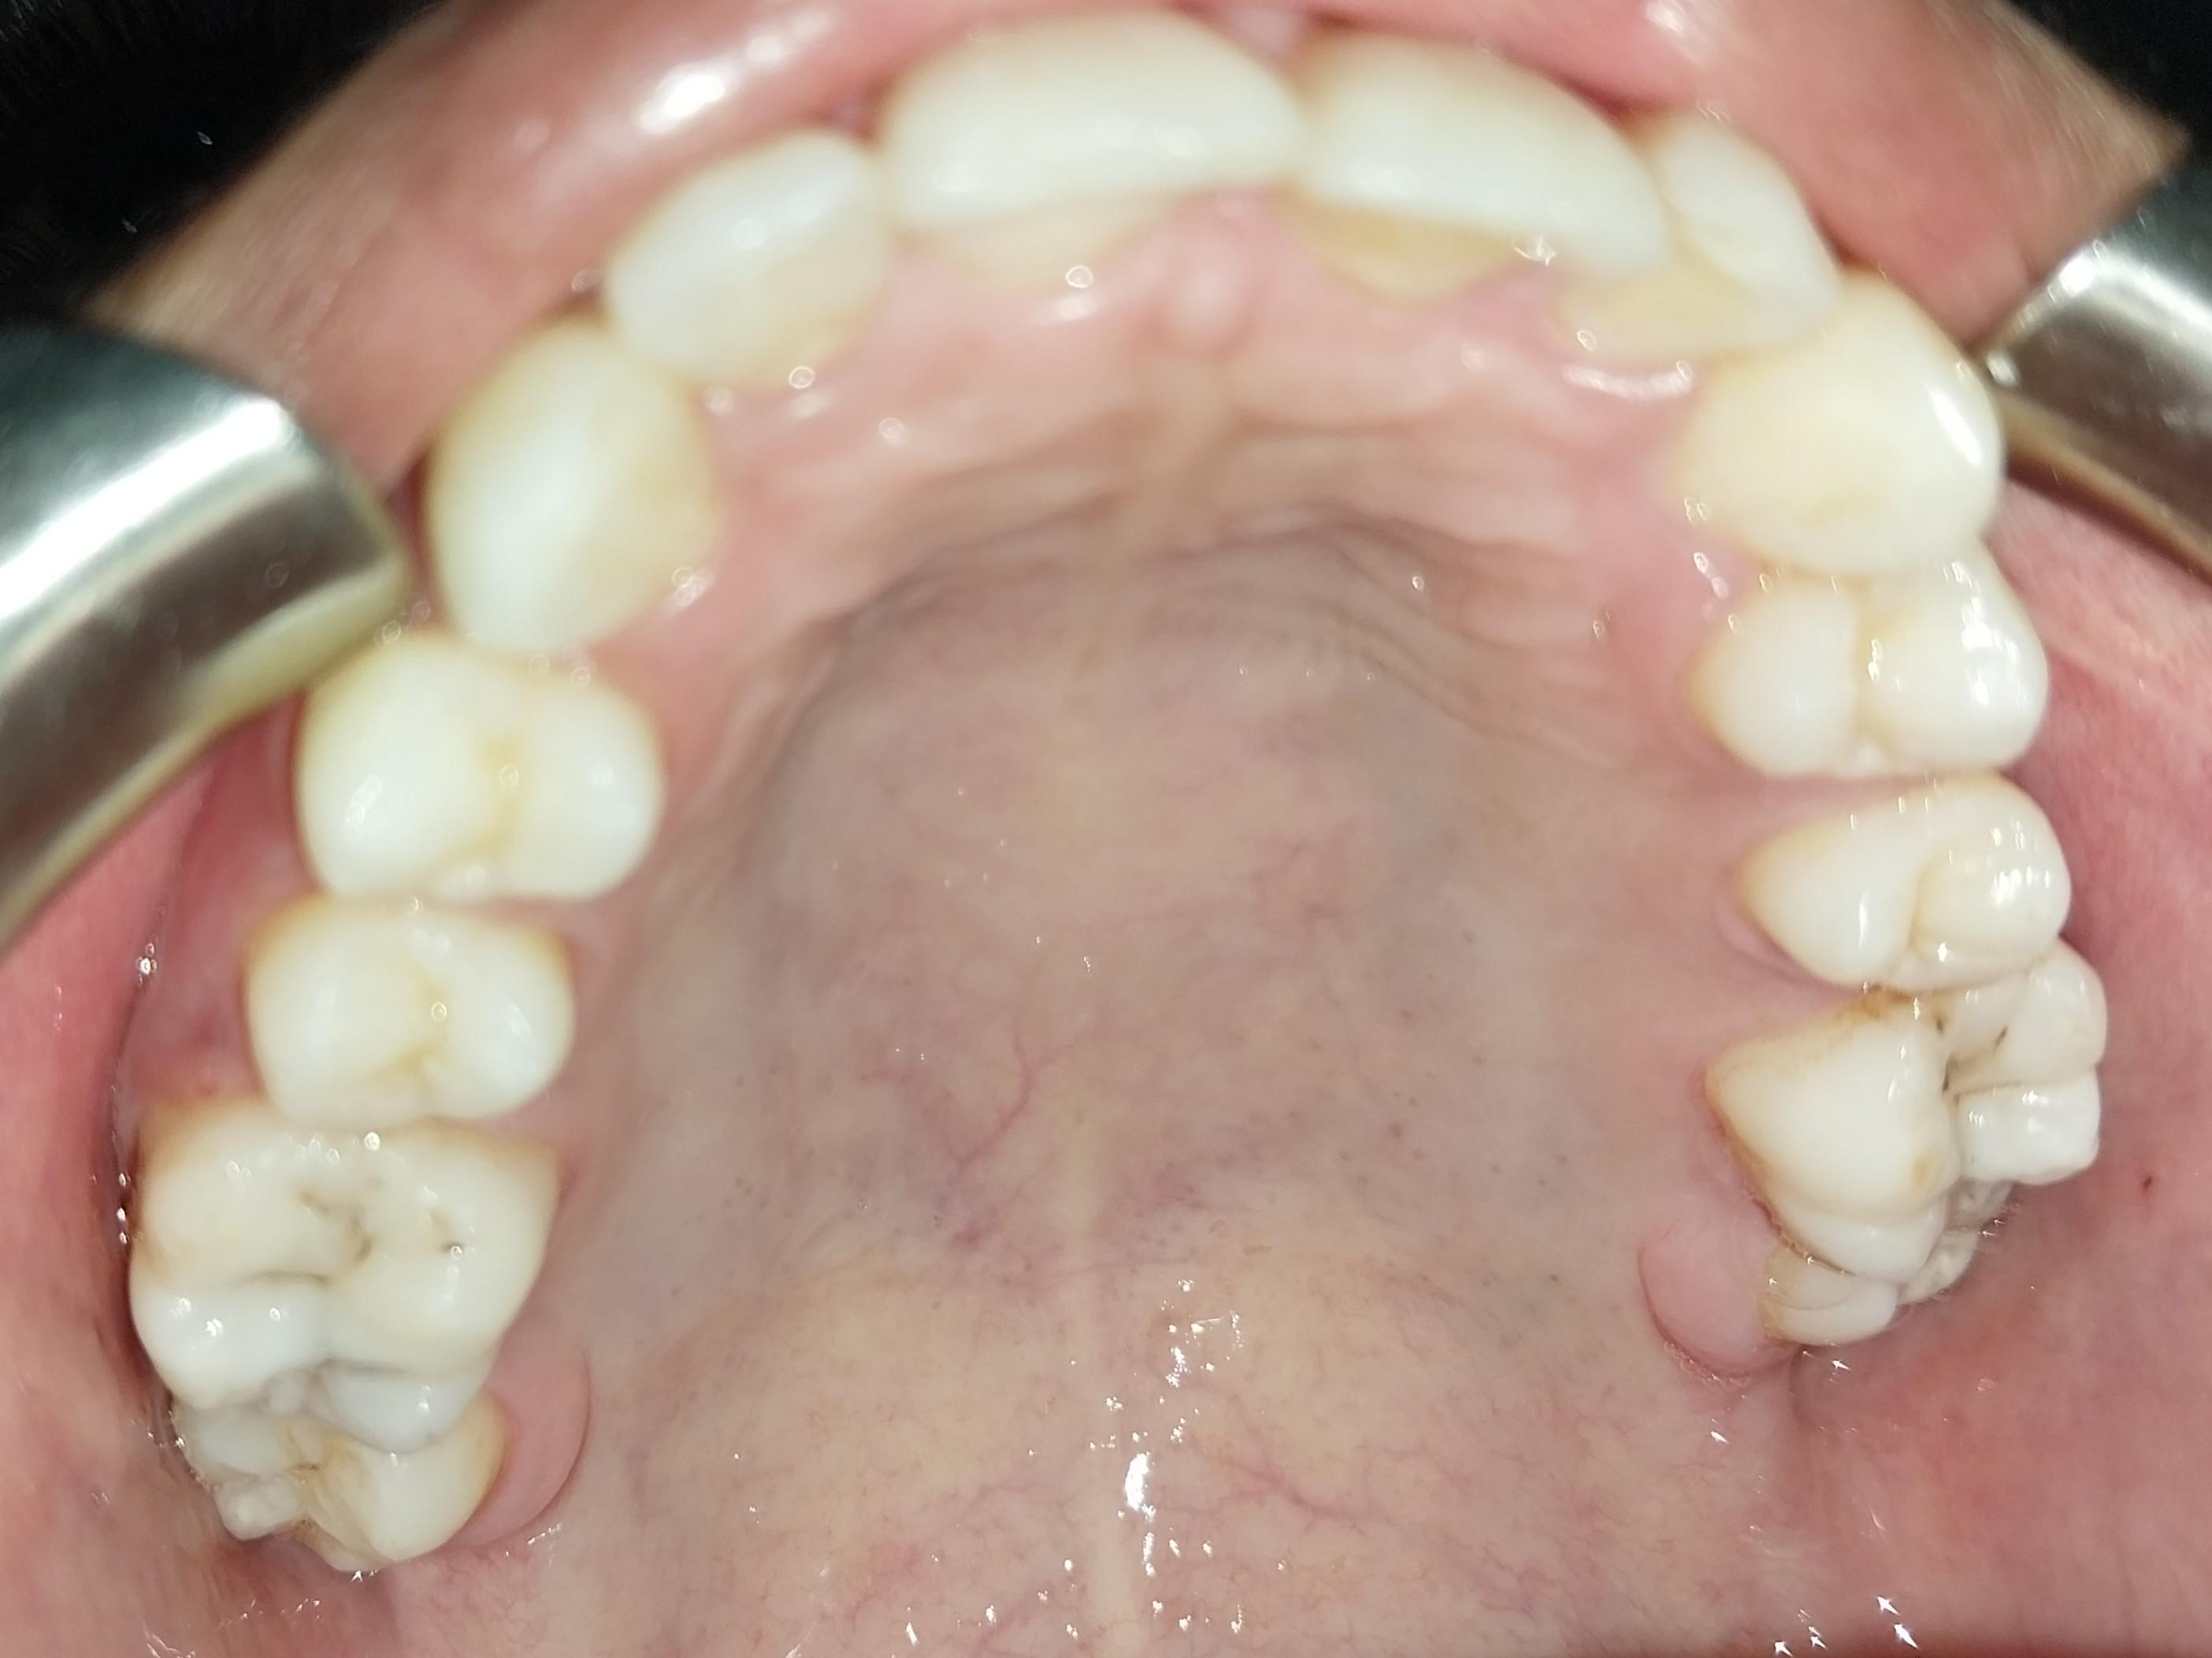D: (1708, 989, 2110, 1273)
